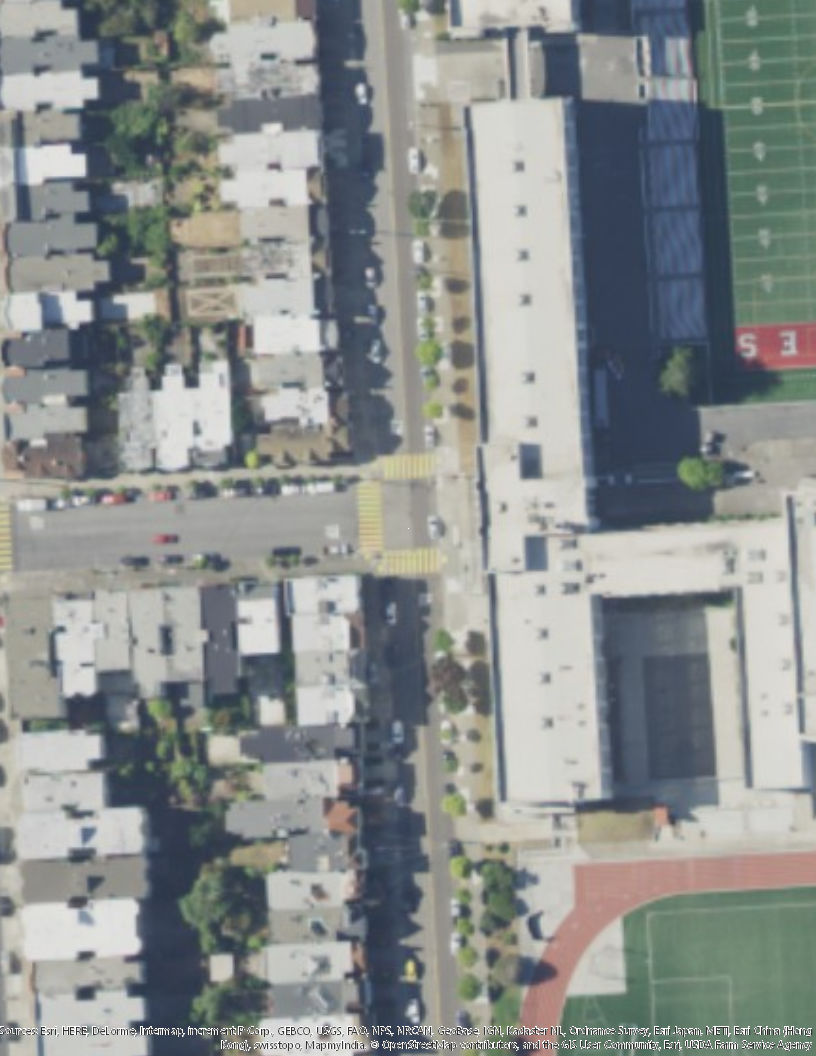zebracross: (353, 480, 384, 553), (377, 545, 444, 575), (382, 453, 436, 482), (1, 500, 15, 572)
